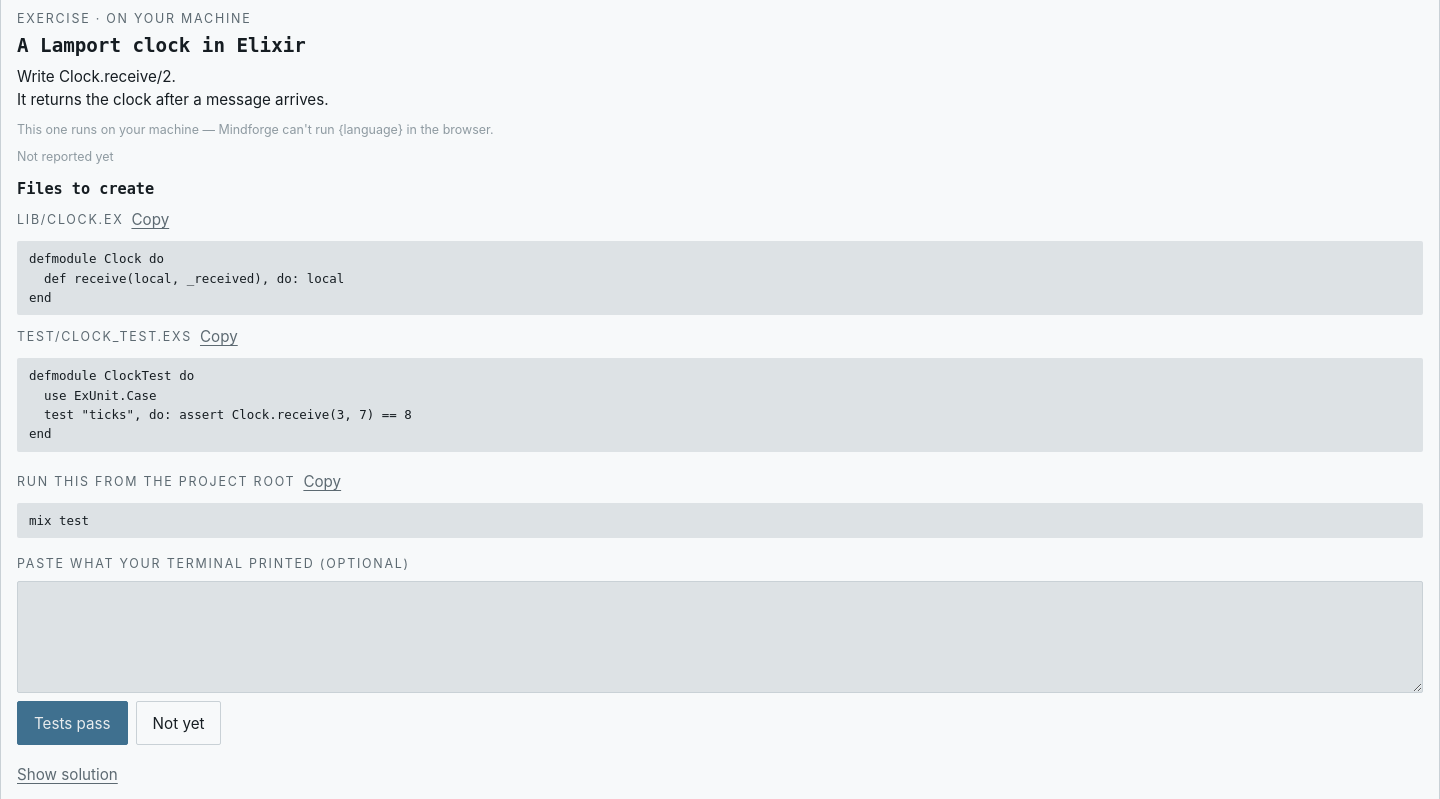
Test case: a task exercise › keeps the solution hidden until asked for, and records opening it
Expected: the text "max(local, received) + 1" is not shown
Click the button "Show solution" at (67, 775), box [17,762,118,788]
(page scrolled)
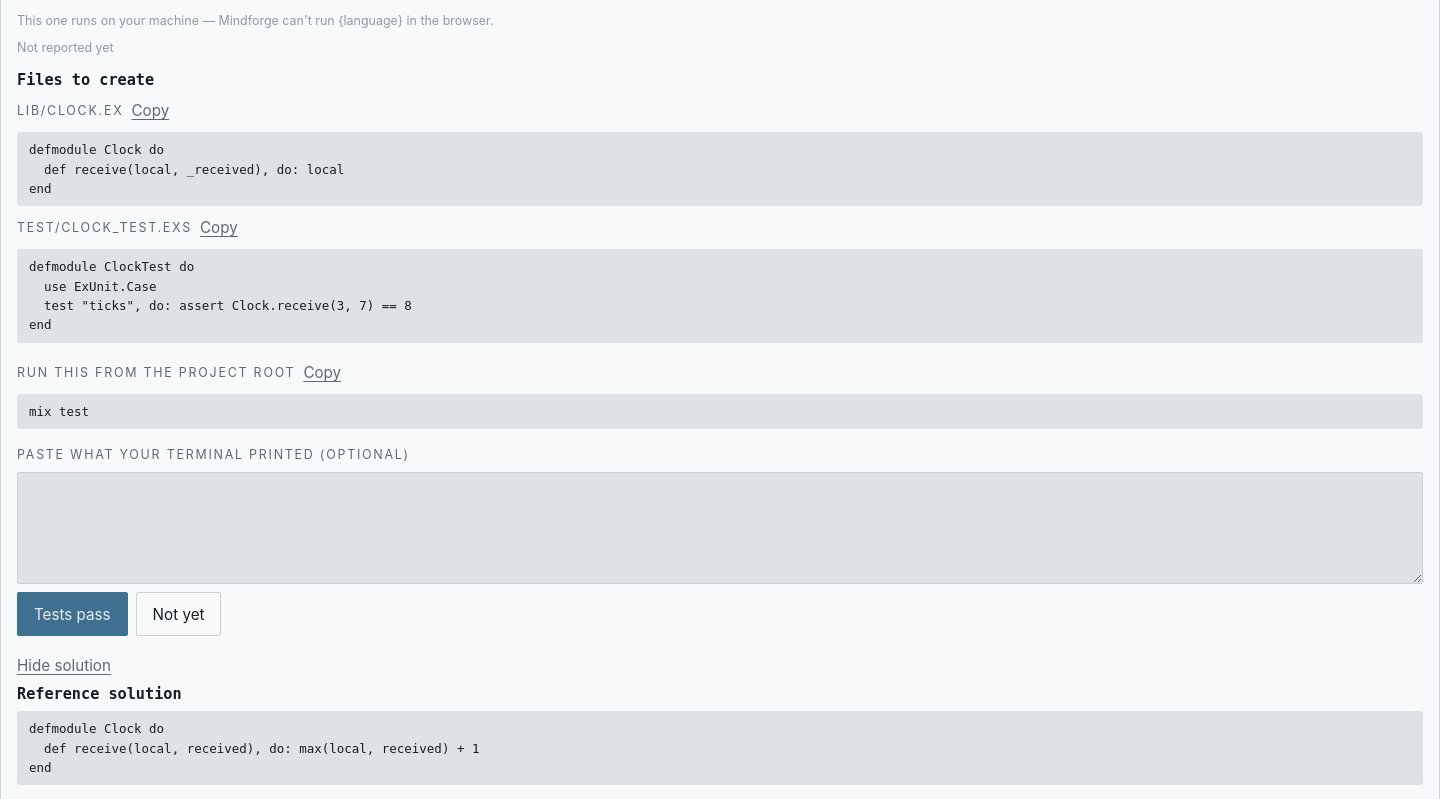
Expected: the text "max(local, received) + 1" is shown, [29,721,479,775]
